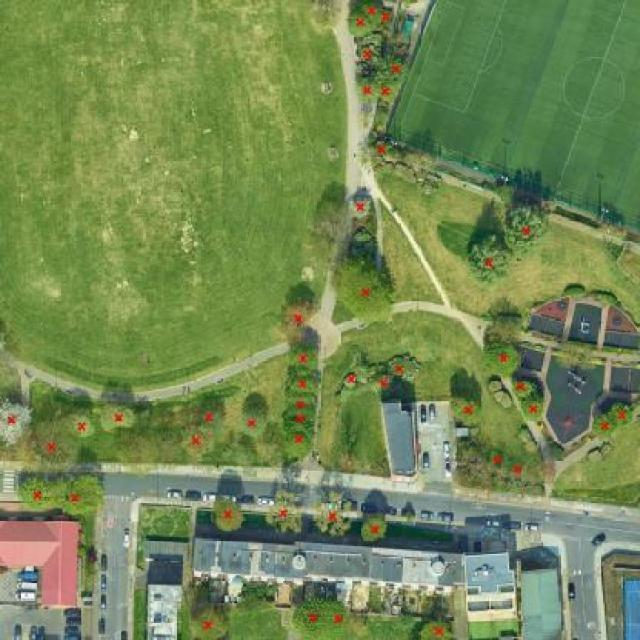tree: (324, 252, 408, 332), (114, 409, 200, 480), (457, 227, 518, 296), (14, 420, 86, 478), (501, 200, 554, 263), (272, 292, 328, 346), (62, 465, 111, 523), (11, 464, 67, 513), (313, 486, 356, 543), (263, 488, 303, 543), (94, 395, 143, 439), (205, 492, 251, 538), (482, 298, 530, 342), (0, 394, 38, 448), (293, 587, 330, 640), (186, 600, 235, 640), (476, 338, 527, 376), (177, 422, 215, 468), (446, 391, 486, 434), (63, 405, 102, 448), (186, 397, 229, 434), (280, 342, 329, 373), (273, 430, 319, 461), (358, 510, 395, 548), (234, 404, 271, 441), (410, 614, 462, 640), (378, 55, 415, 88), (385, 351, 423, 382), (359, 132, 402, 159), (551, 339, 585, 373), (372, 73, 403, 110), (281, 372, 325, 398), (366, 369, 399, 402), (346, 191, 380, 223), (275, 412, 324, 434), (341, 8, 374, 39), (330, 595, 353, 639), (348, 75, 379, 107), (281, 392, 327, 413), (486, 178, 517, 209), (353, 0, 385, 29), (589, 412, 617, 443), (610, 395, 633, 432), (575, 345, 602, 376), (519, 398, 550, 424), (350, 42, 379, 68), (484, 446, 508, 477), (507, 376, 539, 399), (371, 7, 402, 28), (511, 423, 535, 448), (506, 457, 529, 481), (337, 368, 361, 390)
